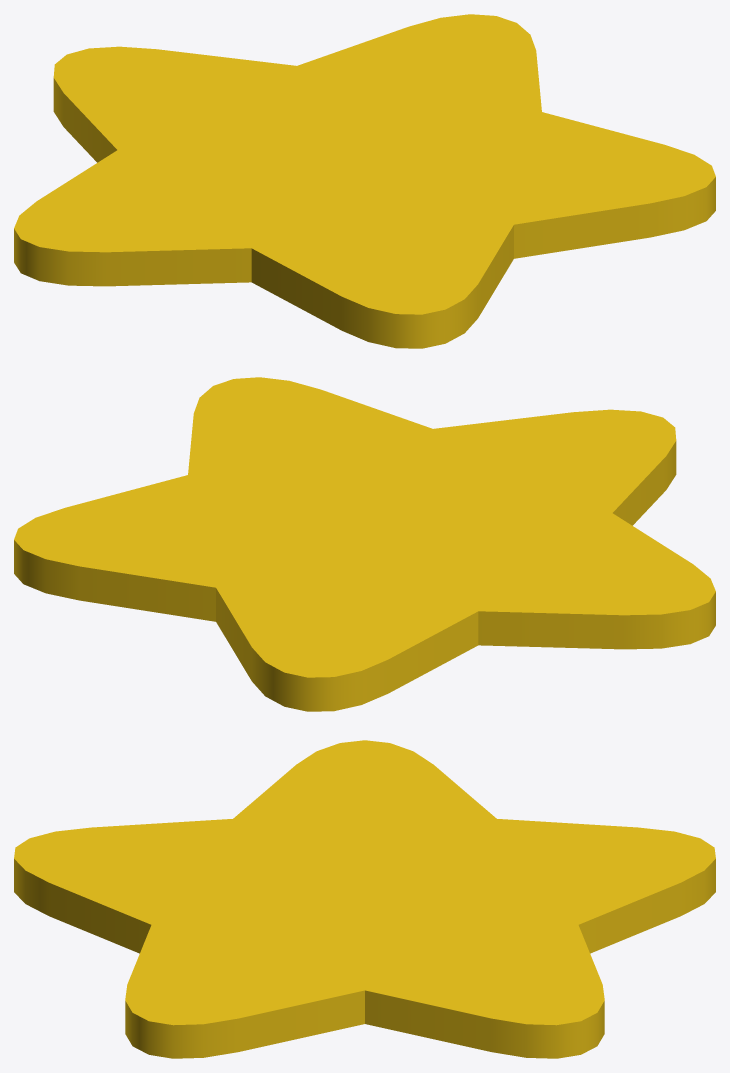
Rendered from Star_round.obj.
3 renders of one model, top to bottom at view 1: azimuth 30°, elevation 25°; view 2: azimuth 150°, elevation 25°; view 3: azimuth 270°, elevation 25°, orthographic.
Parts seen in each view (by area): view 1: Star; view 2: Star; view 3: Star.
Boxes of the visible parts, x1,y1,x2,y2 form: Star: [14, 14, 715, 348]; Star: [14, 377, 715, 711]; Star: [14, 740, 715, 1058].
Size of the model in its own units: 1.5 by 0.0825 by 1.56.
1 material, 1 textured.
